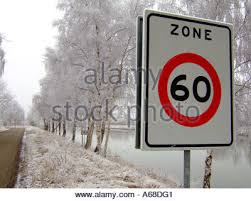Speed_limit_60km: (158, 51, 223, 127)
